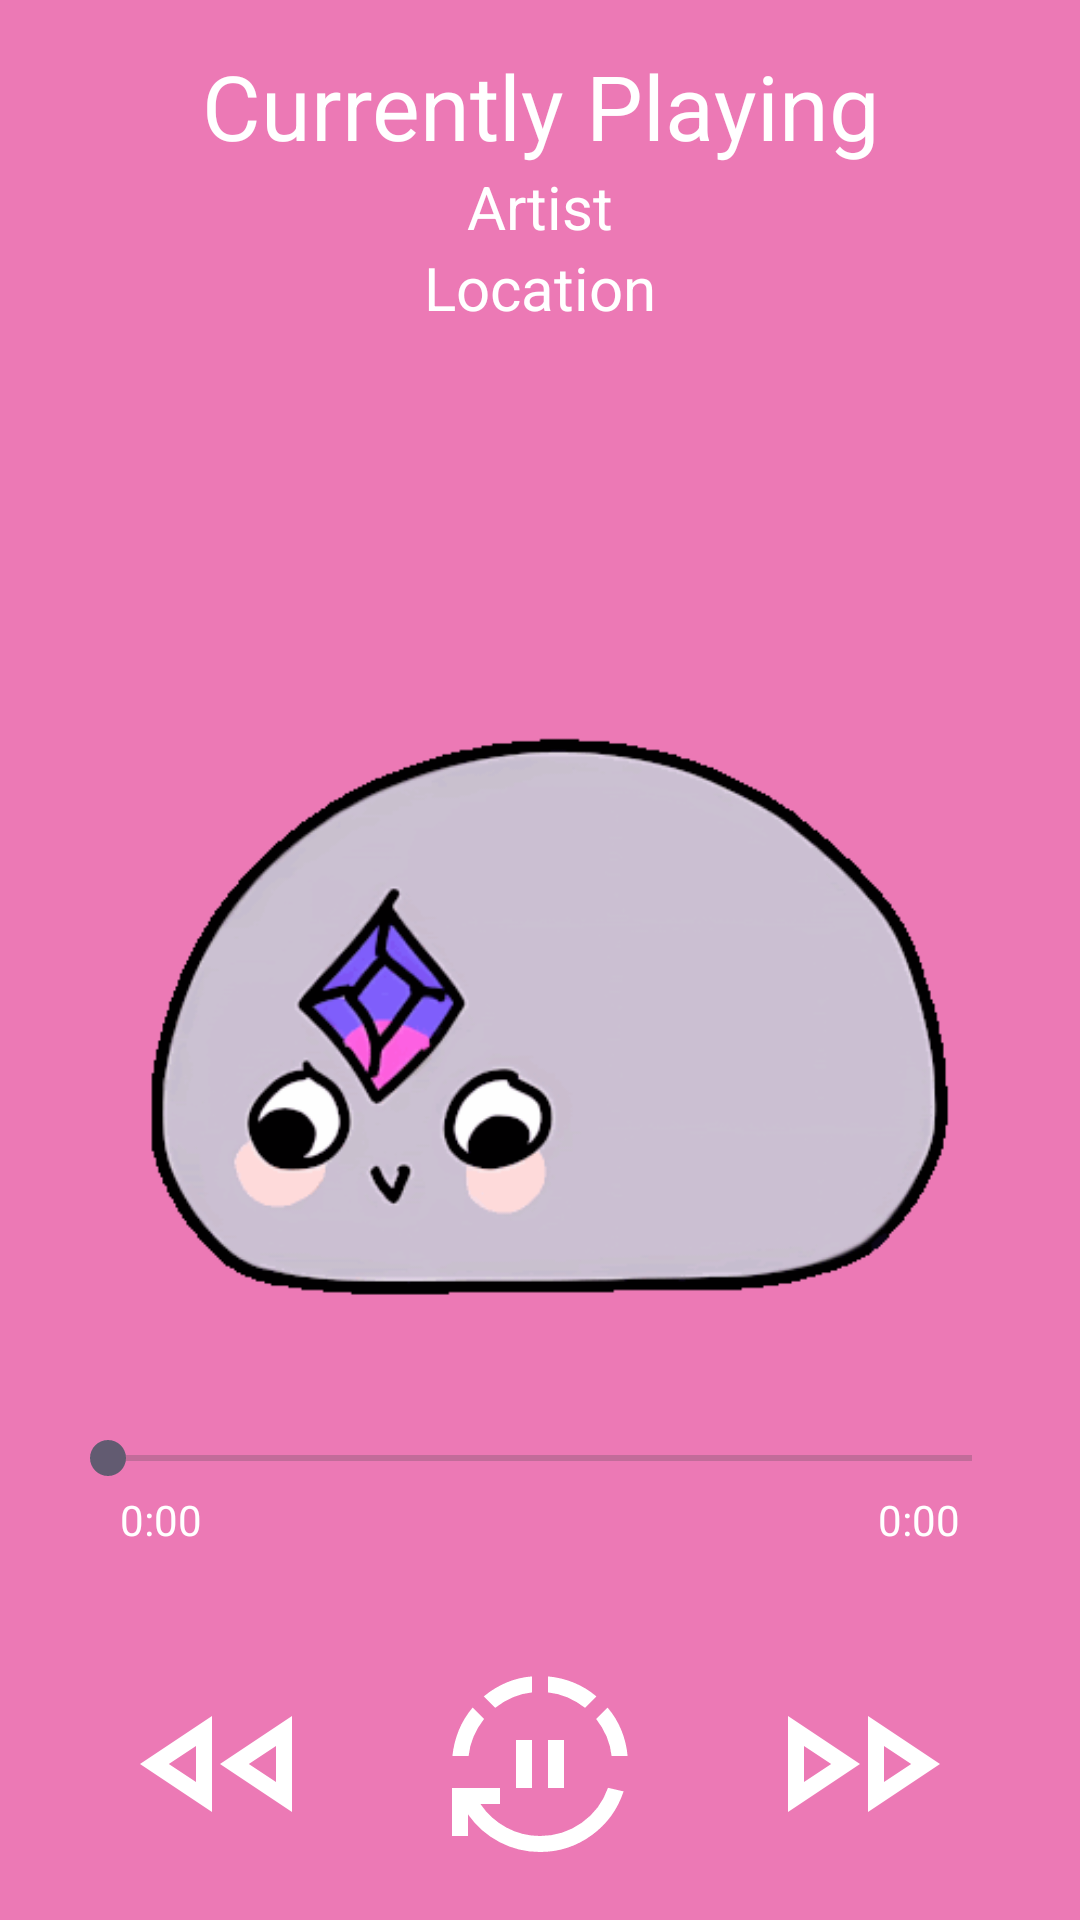

Point at icon controls on the screen. Image size 1080px×1920px, points as (x,y).
autopause: (540,1764)
fast forward: (864,1764)
fast rewind: (216,1764)
